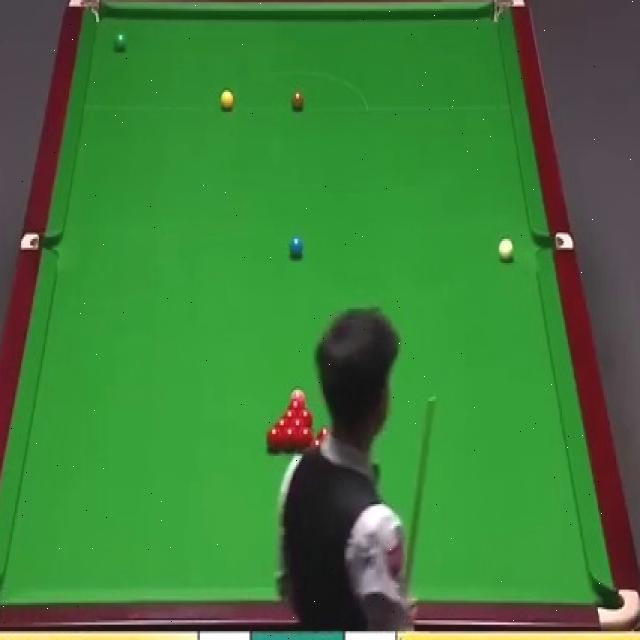blue-ball: (287, 236, 304, 262)
brown-ball: (290, 88, 305, 112)
green-ball: (112, 32, 128, 52)
pink-ball: (290, 387, 306, 402)
red-ball: (266, 427, 281, 453), (298, 426, 313, 452), (282, 426, 296, 451), (299, 408, 314, 425), (318, 424, 332, 442), (281, 406, 300, 419), (290, 416, 308, 428), (288, 400, 306, 410), (309, 436, 324, 447), (274, 416, 290, 426)
white-ball: (496, 234, 516, 264)
yellow-ball: (220, 87, 235, 113)
